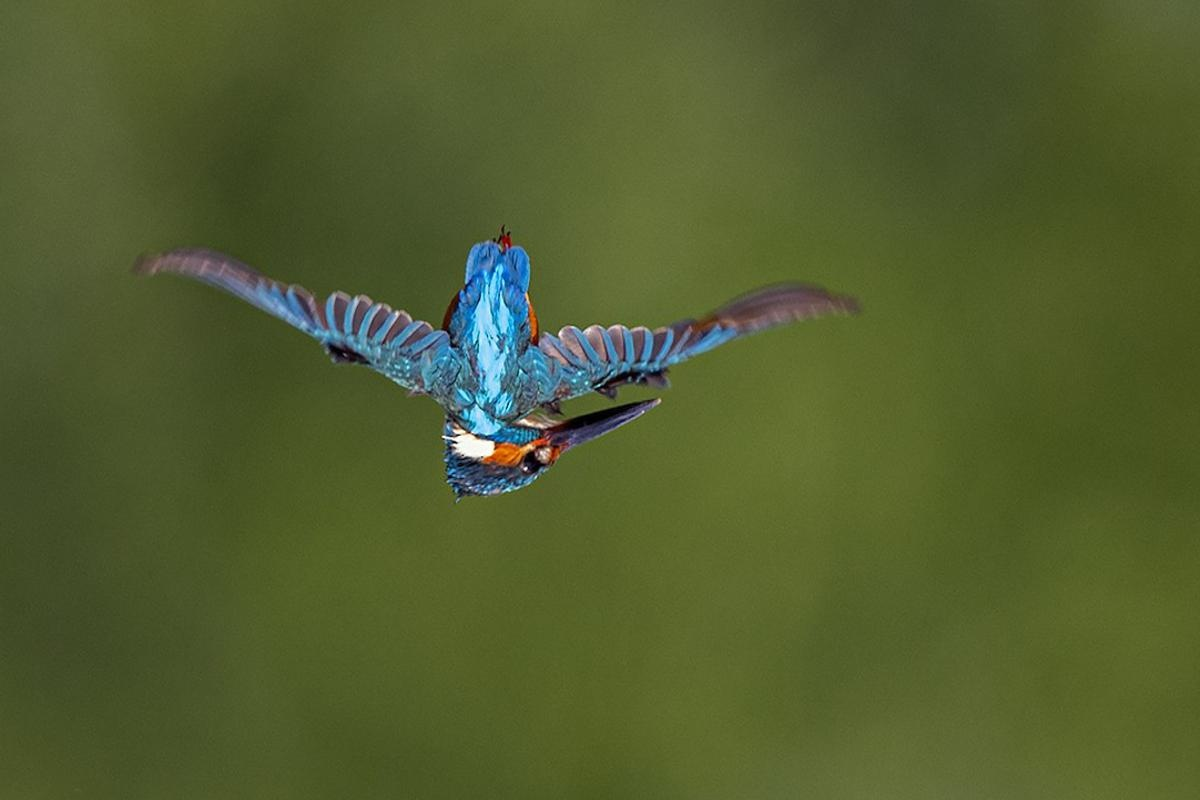kingfisher: (96, 191, 928, 507)
